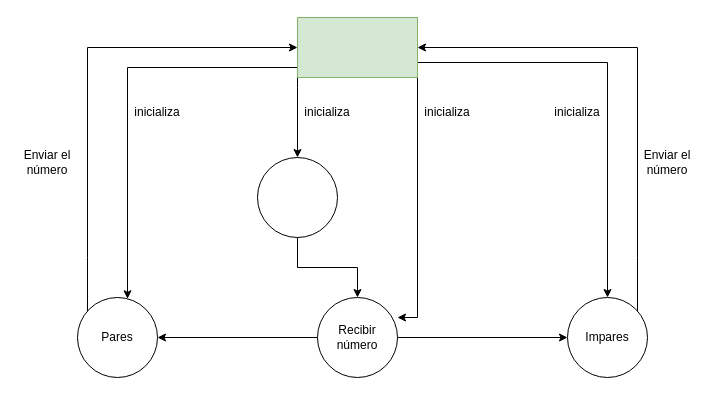
The diagram is 714 pixels wide and 395 high, and some of its shapes have lost their labels. Each missing label, with the centre of its shape:
"Generar Números" belongs at [297,197].
"Main" belongs at [357,47].
